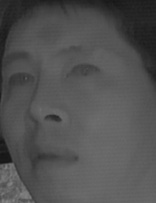eye: (65, 59, 101, 84), (4, 69, 38, 92)
mouth: (24, 140, 79, 180)
